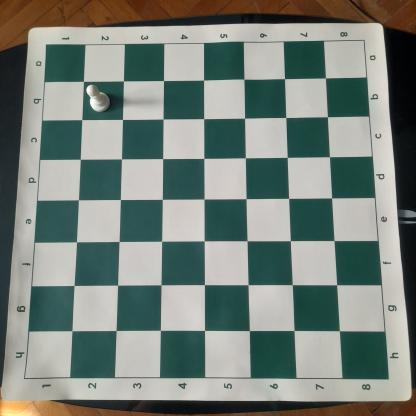white-pawn: (85, 84, 114, 113)
